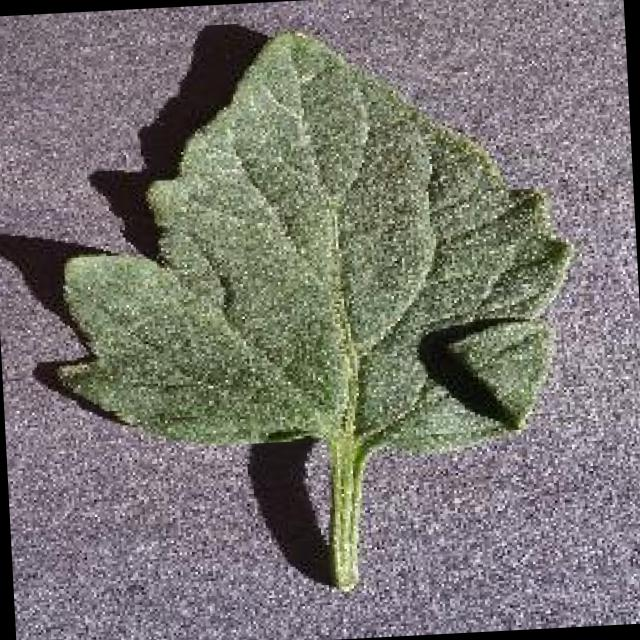Tomato_Healthy: (23, 14, 590, 487)
